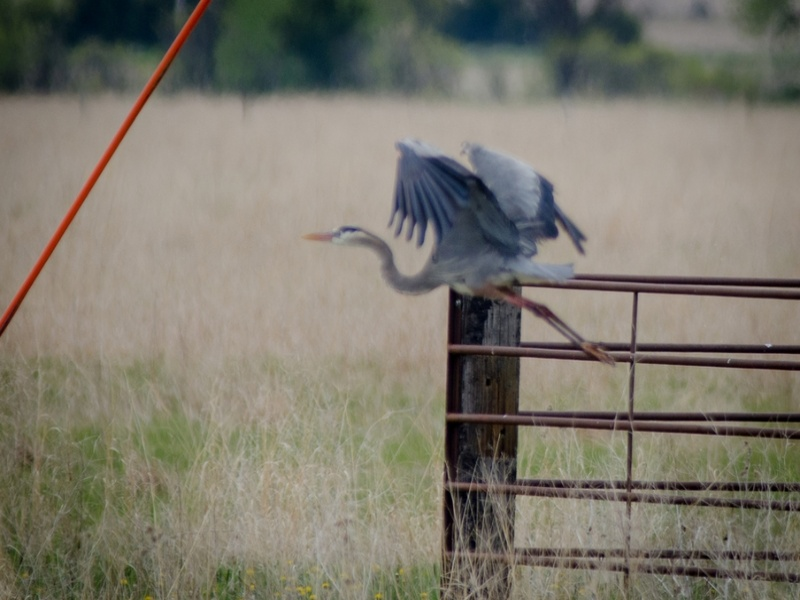heron: (301, 138, 624, 371)
